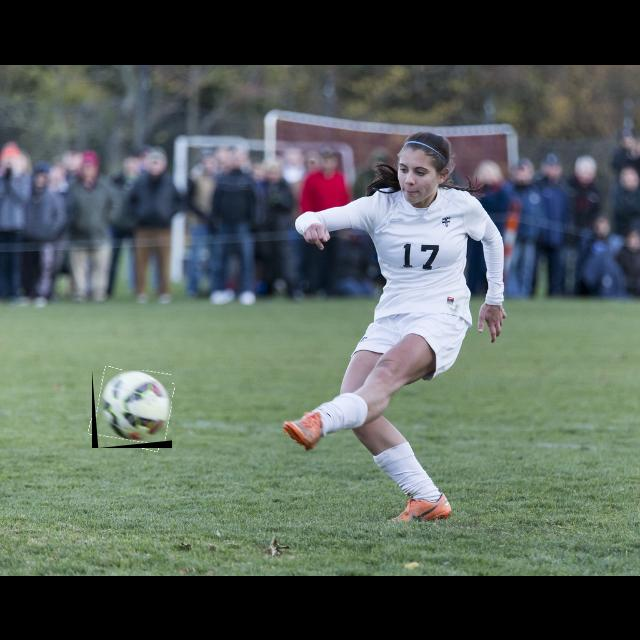Football: (92, 370, 172, 448)
